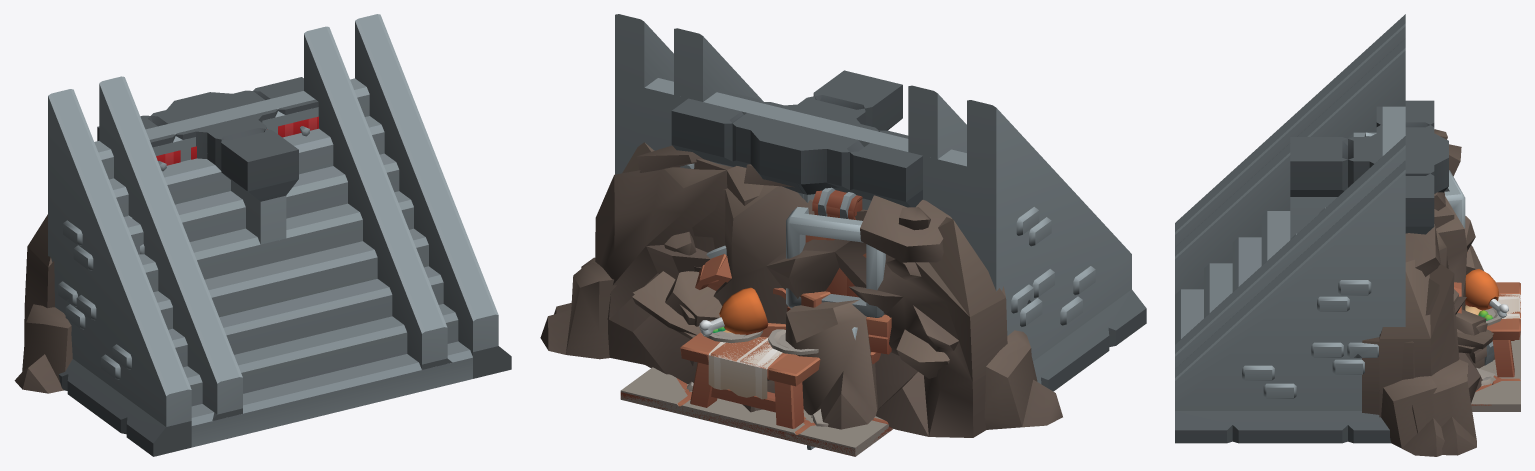
Rendered from donjon.glb.
3 renders of one model, left to right at view 1: azimuth 30°, elevation 25°; view 2: azimuth 150°, elevation 25°; view 3: azimuth 270°, elevation 25°, orthographic. The views are drawn at different scales.
Visible parts, largest first — view 1: stairs_wide, stairs, wall_corner, rubble_large, wall_arched, banner_triple_red, wall_pillar; view 2: rubble_large, stairs_wide, rubble_half, stairs, table_long_decorated_A, wall_shelves, box_stacked, wall_arched, floor_tile_large_rocks, wall_corner, wall_pillar, table_long_tablecloth_decorated_A (+4 smaller); view 3: stairs_wide, stairs, rubble_half, rubble_large, wall_corner, table_long_decorated_A, wall_arched, wall, wall_pillar, floor_tile_large_rocks, box_stacked, floor_dirt_large (+2 smaller).
Boxes of the visible parts, x1,y1,x2,y2 form: stairs_wide: (48, 14, 511, 456); stairs: (99, 26, 452, 420); wall_corner: (172, 118, 298, 244); rubble_large: (14, 214, 72, 393); wall_arched: (97, 77, 318, 147); banner_triple_red: (156, 116, 318, 171); wall_pillar: (166, 92, 262, 158); rubble_large: (554, 164, 1062, 437); stairs_wide: (615, 14, 1146, 391); rubble_half: (540, 142, 763, 383); stairs: (674, 28, 966, 159); table_long_decorated_A: (680, 287, 820, 428); wall_shelves: (671, 111, 922, 207); box_stacked: (742, 187, 885, 412); wall_arched: (672, 89, 922, 207); floor_tile_large_rocks: (620, 367, 888, 455); wall_corner: (798, 70, 918, 209); wall_pillar: (716, 103, 906, 202); table_long_tablecloth_decorated_A: (681, 337, 795, 399); stairs_wide: (1175, 14, 1405, 443); stairs: (1175, 38, 1405, 368); rubble_half: (1379, 206, 1492, 455); rubble_large: (1362, 129, 1493, 456); wall_corner: (1290, 122, 1425, 238); table_long_decorated_A: (1465, 269, 1520, 377); wall_arched: (1376, 100, 1434, 233); wall: (1376, 107, 1434, 234); wall_pillar: (1362, 133, 1448, 233); floor_tile_large_rocks: (1471, 319, 1520, 405); box_stacked: (1444, 170, 1494, 368); floor_dirt_large: (1471, 376, 1520, 411).
Size of the model in its own units: 8.13 by 6.3 by 6.
1 material, 1 textured.
